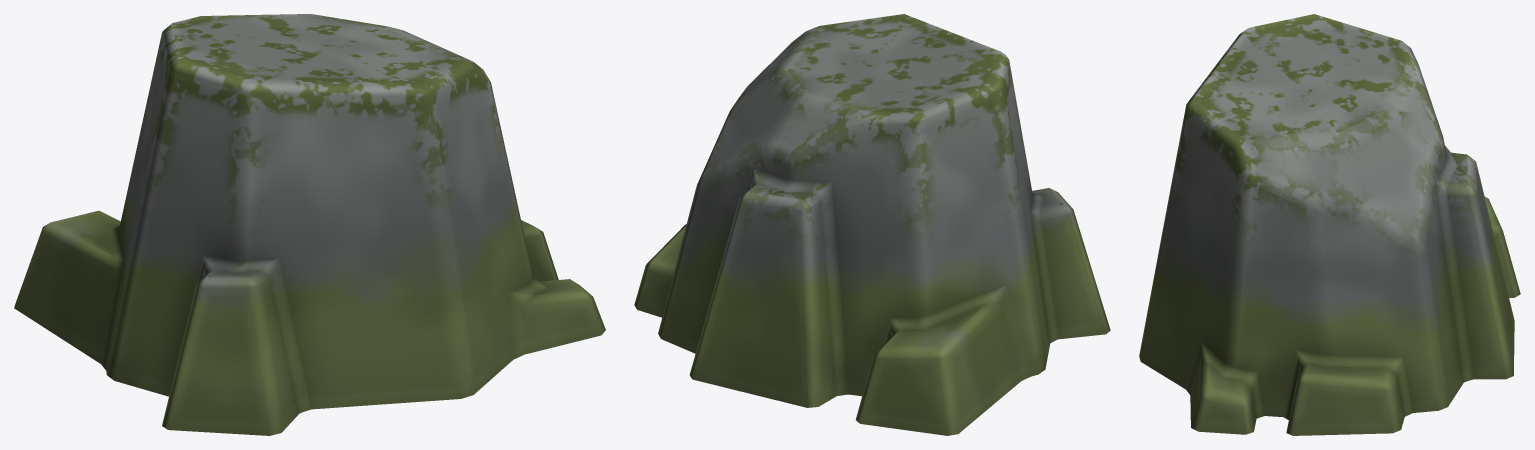
File: rock.glb
The picture shows the model from 3 angles, left to right: view 1: azimuth 30°, elevation 25°; view 2: azimuth 150°, elevation 25°; view 3: azimuth 270°, elevation 25°; orthographic projection. The views are drawn at different scales.
Visible parts, largest first — view 1: rock; view 2: rock; view 3: rock.
Part boxes in pixels (<box>): rock: <box>14,14,605,435</box>; rock: <box>634,14,1110,435</box>; rock: <box>1139,14,1520,435</box>.
Size of the model in its own units: 3 by 2 by 2.6.
1 material, 1 textured.
